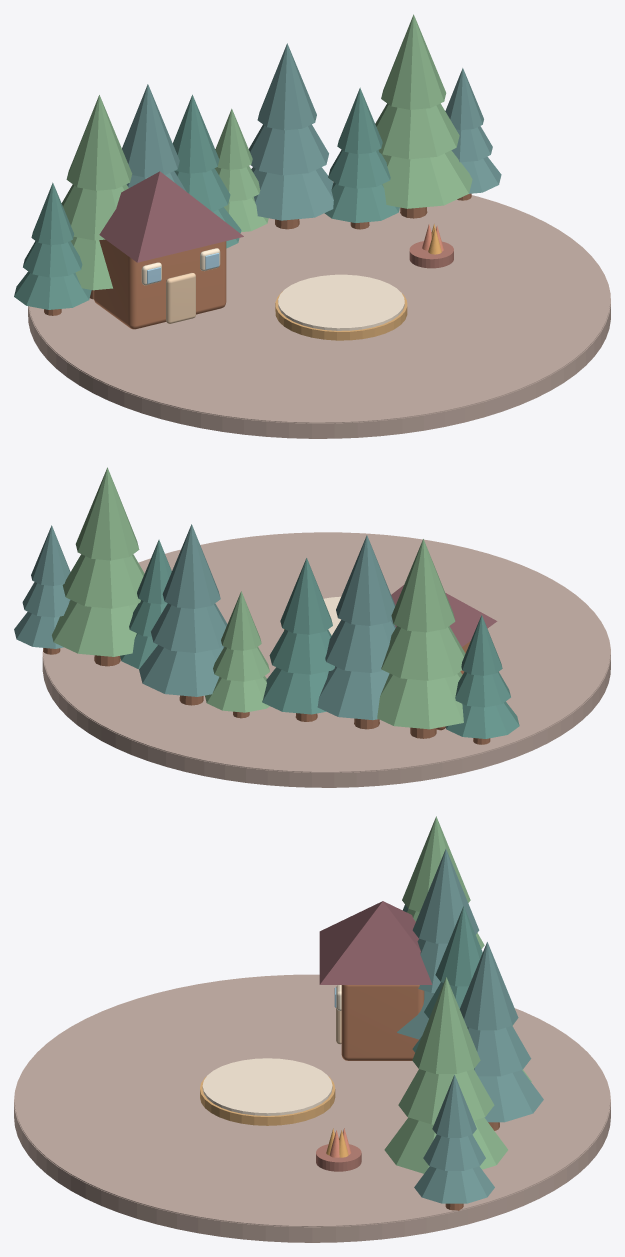
Rendered from cabana.glb.
3 views of the same model, one above another, from view 1: azimuth 30°, elevation 25°; view 2: azimuth 150°, elevation 25°; view 3: azimuth 270°, elevation 25° (orthographic). The views are drawn at different scales.
Visible parts, largest first — view 1: Diorama piping.017, Diorama base.017, Gabled roof.003, Forest cabin, Look pedestal.017, Pine crown.075, Pine crown.076, Pine crown.059, Pine crown.077, Pine crown.069, Pine crown.070, Pine crown.062 (+20 smaller); view 2: Diorama piping.017, Diorama base.017, Pine crown.057, Pine crown.075, Pine crown.058, Pine crown.076, Pine crown.059, Pine crown.077, Pine crown.069, Pine crown.062, Pine crown.070, Pine crown.060 (+18 smaller); view 3: Diorama piping.017, Diorama base.017, Gabled roof.003, Look pedestal.017, Forest cabin, Pine crown.077, Pine crown.076, Pine crown.062, Pine crown.071, Pine crown.075, Pine crown.078, Pine crown.070 (+9 smaller).
Boxes of the visible parts, bbox=[...] form: Diorama piping.017: bbox=[29, 181, 610, 423]; Diorama base.017: bbox=[28, 258, 610, 438]; Gabled roof.003: bbox=[99, 171, 243, 262]; Forest cabin: bbox=[93, 239, 226, 329]; Look pedestal.017: bbox=[278, 274, 404, 330]; Pine crown.075: bbox=[381, 150, 472, 208]; Pine crown.076: bbox=[375, 103, 459, 159]; Pine crown.059: bbox=[66, 95, 132, 190]; Pine crown.077: bbox=[381, 14, 446, 109]; Pine crown.069: bbox=[251, 167, 333, 220]; Pine crown.070: bbox=[249, 124, 328, 175]; Pine crown.062: bbox=[122, 84, 179, 177]; Diorama piping.017: bbox=[43, 532, 610, 772]; Diorama base.017: bbox=[42, 613, 610, 787]; Pine crown.057: bbox=[377, 672, 463, 729]; Pine crown.075: bbox=[52, 600, 137, 656]; Pine crown.058: bbox=[381, 626, 465, 680]; Pine crown.076: bbox=[62, 554, 144, 608]; Pine crown.059: bbox=[391, 539, 455, 632]; Pine crown.077: bbox=[75, 467, 139, 560]; Pine crown.069: bbox=[139, 645, 224, 696]; Pine crown.062: bbox=[336, 535, 395, 625]; Pine crown.070: bbox=[151, 603, 227, 652]; Pine crown.060: bbox=[317, 666, 389, 720]; Diorama piping.017: bbox=[14, 974, 610, 1226]; Diorama base.017: bbox=[14, 1066, 610, 1242]; Gabled roof.003: bbox=[319, 901, 432, 984]; Look pedestal.017: bbox=[202, 1058, 332, 1115]; Forest cabin: bbox=[341, 985, 424, 1060]; Pine crown.077: bbox=[412, 977, 480, 1073]; Pine crown.076: bbox=[398, 1069, 494, 1124]; Pine crown.062: bbox=[412, 849, 479, 943]; Pine crown.071: bbox=[459, 942, 518, 1030]; Pine crown.075: bbox=[384, 1117, 507, 1173]; Pine crown.078: bbox=[414, 1166, 494, 1203]; Pine crown.070: bbox=[467, 1026, 531, 1076].
Size of what is drawn, in the model's own units: 8.64 by 3.53 by 8.64.
